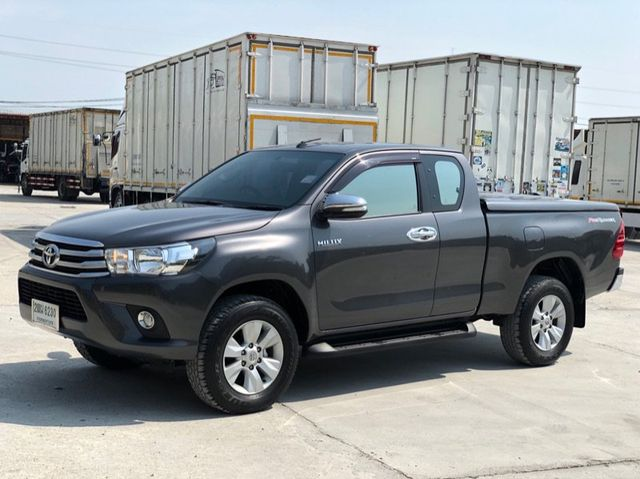pickup: (19, 139, 624, 413)
